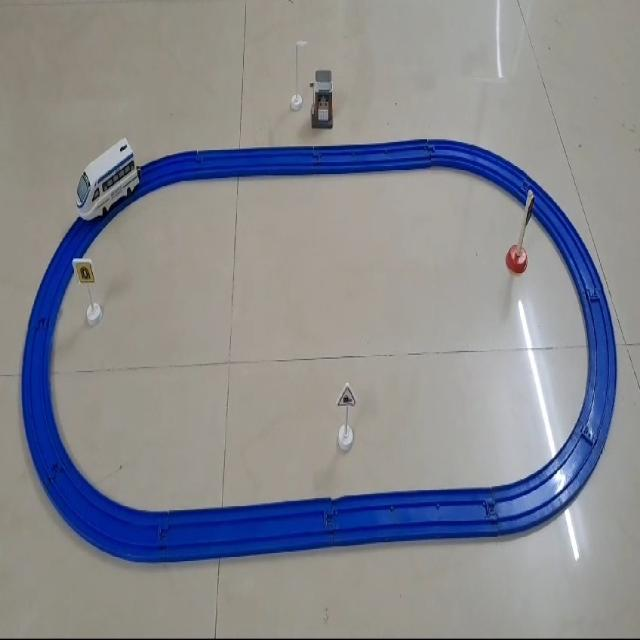bus: (75, 135, 140, 221)
